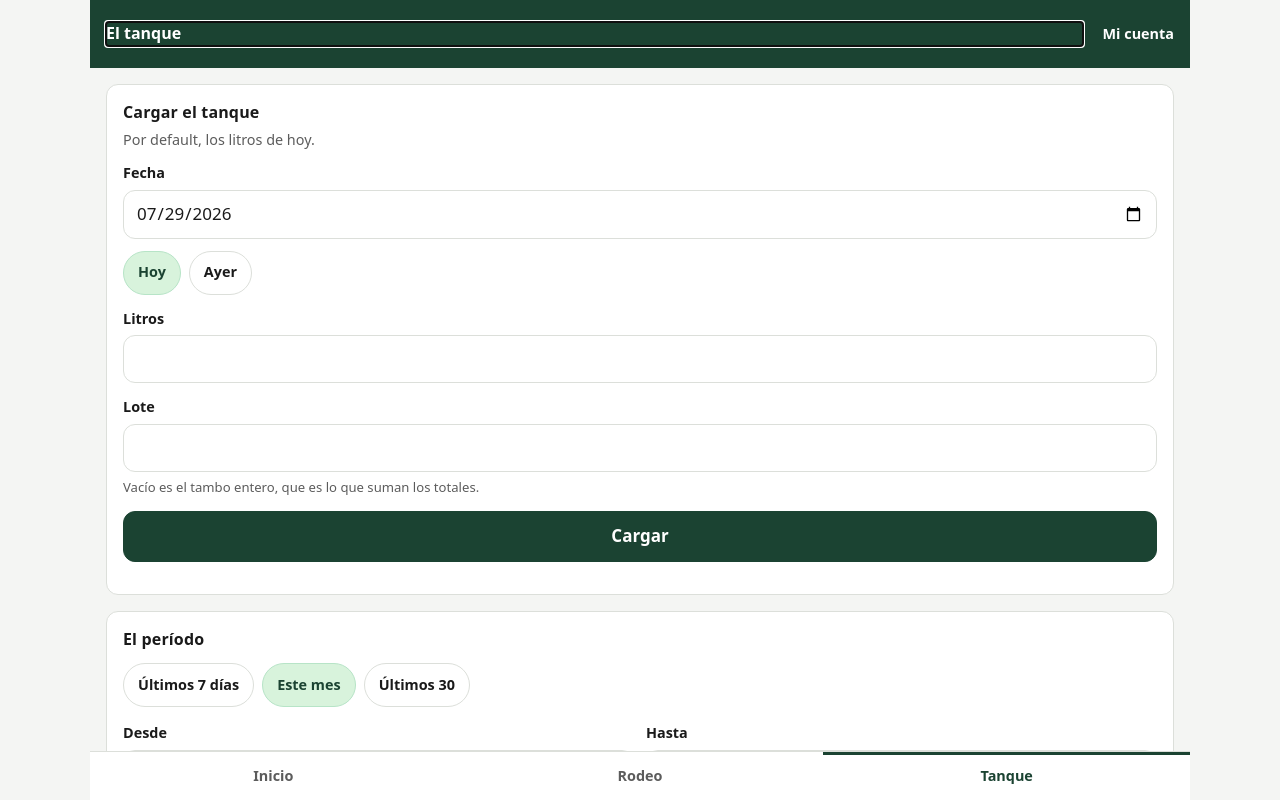
Scenario: la sesión que se cae adentro › a mitad de una carga vuelve al login y avisa que eso no se guardó
Step 1. Type "72" into the number field labelled "Litros" → (640, 360), box [123,336,1157,384]
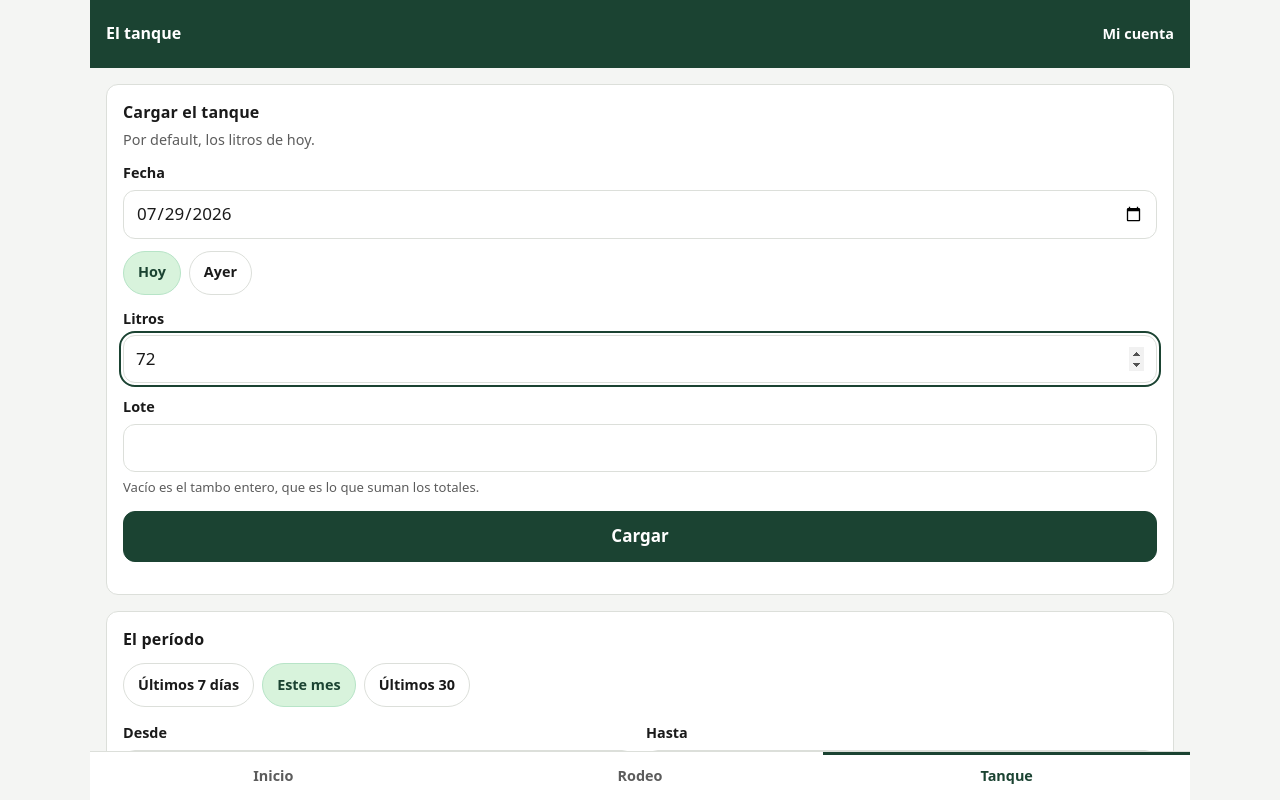
Step 2. Click the button "Cargar" → click(640, 537), box [123,511,1157,562]
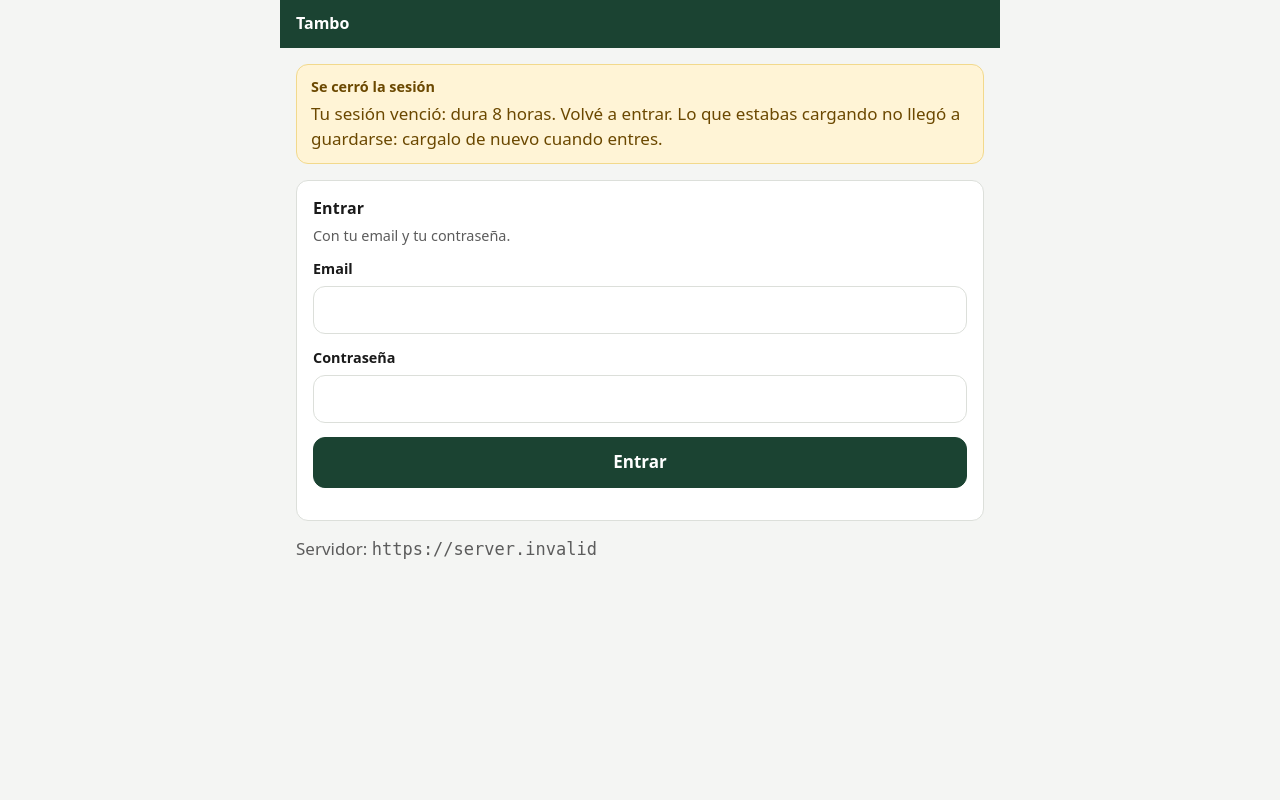
Expected: the heading "Entrar" is shown, [313,197,364,219]
Expected: the text "Tu sesión venció: dura 8 horas" is shown, [311,102,673,125]
Expected: the text "no llegó a guardarse" is shown, [311,102,960,150]
